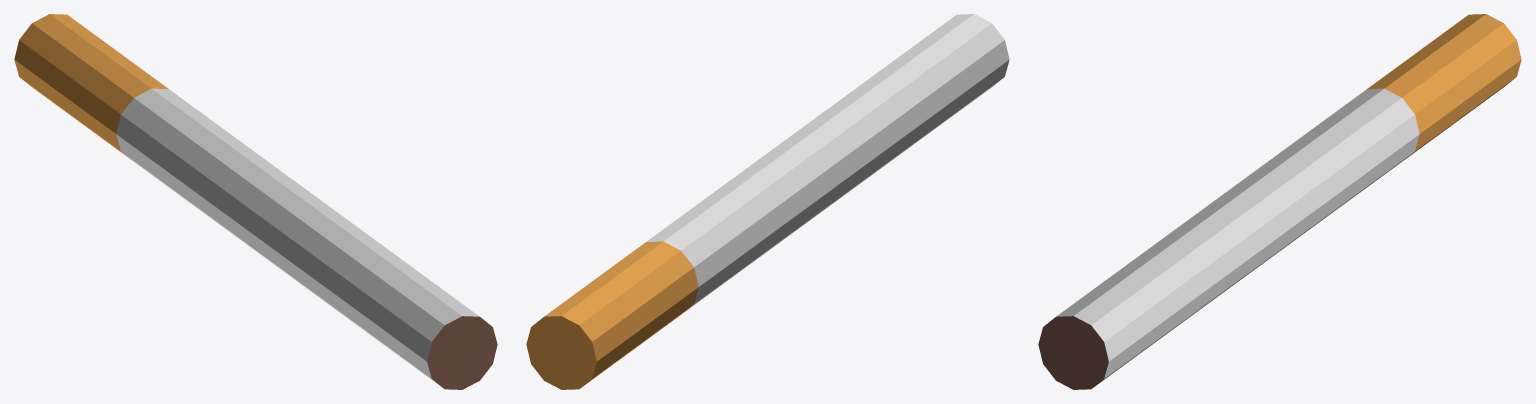
Rendered from cigarette.glb.
3 views of the same model, side by side, from view 1: azimuth 30°, elevation 25°; view 2: azimuth 150°, elevation 25°; view 3: azimuth 330°, elevation 25° (orthographic).
Parts seen in each view (by area): view 1: group1130318182, group1947523472; view 2: group1130318182, group1947523472; view 3: group1130318182, group1947523472.
Boxes of the visible parts, x1=… form: group1130318182: x1=116, y1=88, x2=497, y2=389; group1947523472: x1=14, y1=14, x2=168, y2=159; group1130318182: x1=646, y1=14, x2=1009, y2=312; group1947523472: x1=526, y1=241, x2=698, y2=389; group1130318182: x1=1038, y1=88, x2=1419, y2=389; group1947523472: x1=1367, y1=14, x2=1521, y2=159.
Bounding box in the file's own units: 0.08 × 0.08 × 0.81.
